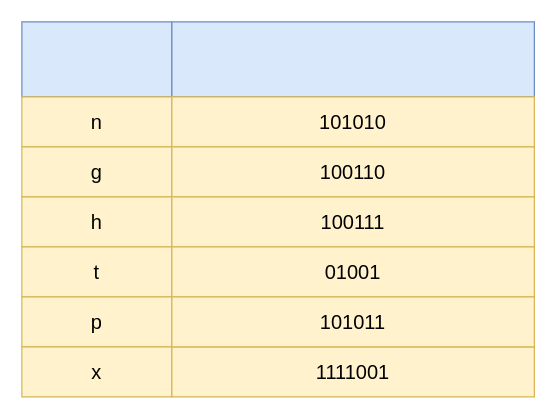
Some shapes in this 556 by 419 pixel diagram are drawn without their labels. Here are the shapes that lost their labels. From the top down, the box of each, then its label:
(21, 21, 172, 97): 原字符
(171, 21, 534, 97): Huffman编码
